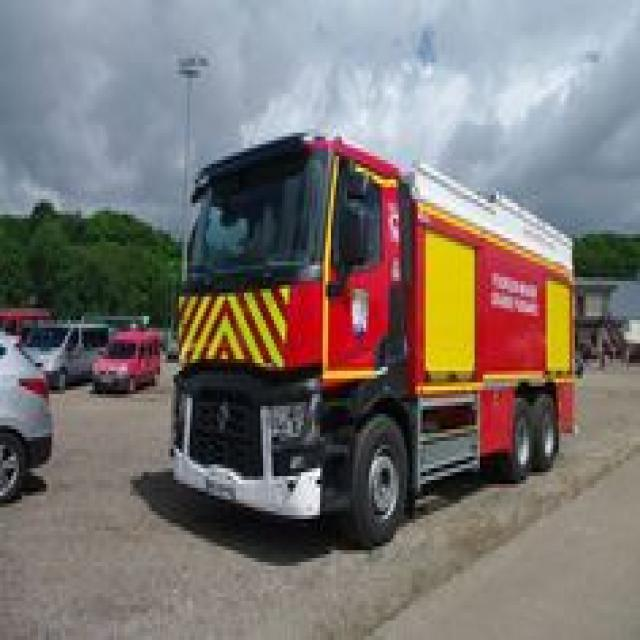emergency: (172, 131, 580, 544)
